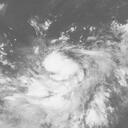cyclone: (33, 41, 97, 112)
